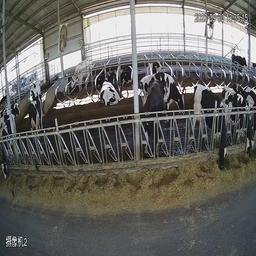cow: (191, 83, 230, 176), (147, 66, 194, 141), (140, 79, 166, 168), (233, 82, 253, 163), (27, 95, 54, 152), (100, 68, 126, 116), (1, 108, 17, 186), (68, 55, 91, 91), (118, 54, 134, 87), (146, 53, 166, 76), (231, 48, 248, 72), (27, 76, 43, 100), (93, 64, 105, 90)
